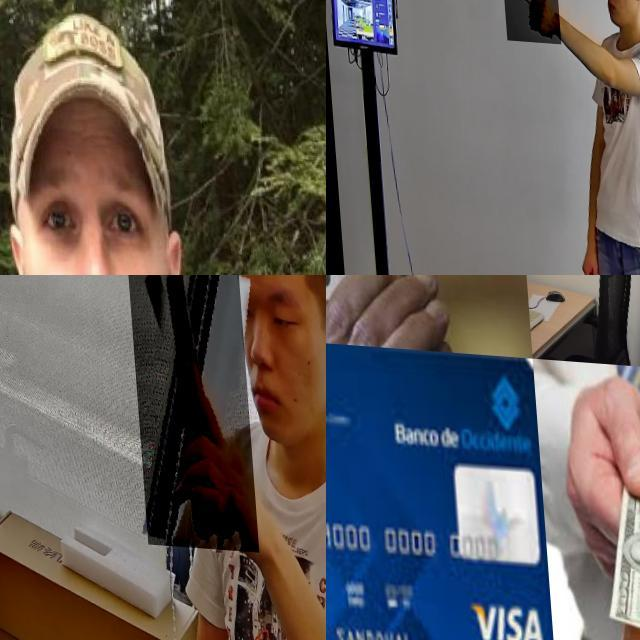-: (0, 1, 120, 275)
gun-knife-thesis - v11 Yolov5 augmented: (124, 275, 252, 547), (499, 0, 557, 41)
